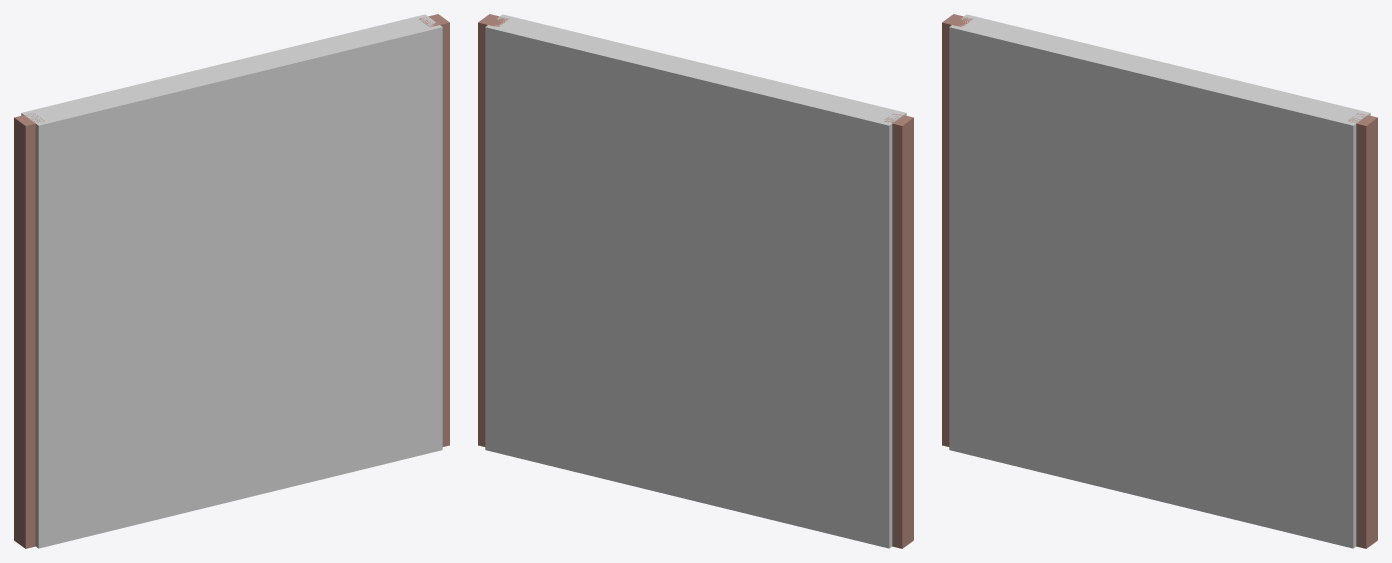
The model's file is wall_brick.glb.
3 renders of one model, left to right at view 1: azimuth 30°, elevation 25°; view 2: azimuth 150°, elevation 25°; view 3: azimuth 330°, elevation 25°, orthographic.
Visible parts, largest first — view 1: wall_brick; view 2: wall_brick; view 3: wall_brick.
Part boxes in pixels (x1,y1,x2,y2): wall_brick: (14, 14, 449, 548); wall_brick: (478, 14, 913, 548); wall_brick: (942, 14, 1377, 548).
Bounding box in the file's own units: 2.1 × 2 × 0.15.
